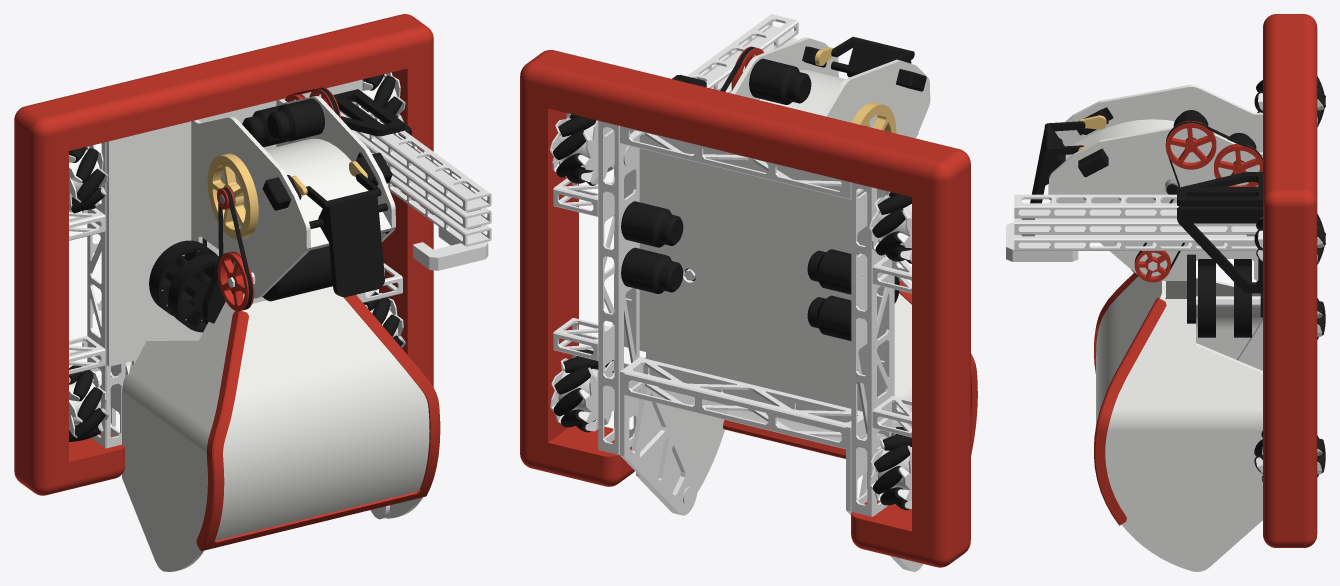
Rendered from final full robot wooo.fbx.
The picture shows the model from 3 angles, left to right: view 1: azimuth 30°, elevation 25°; view 2: azimuth 150°, elevation 25°; view 3: azimuth 270°, elevation 25°; orthographic projection. The views are drawn at different scales.
Visible parts, largest first — view 1: Body20, Body19, Body5 (×2), Body24, Body23, Body1 (×6), Body25, Body6 (×2), Body34, Body11, Body10, Body16 (+9 smaller); view 2: Body20, Body5, Body1 (×8), Body11, Body14, Body4, Body23, Body18, Body15, Body10, Body24, Body25 (+10 smaller); view 3: Body18, Body20, Body22, Body1 (×8), Body23, Body19, Body10, Body8, Body6 (×2), Body25, Body9, Body7 (+4 smaller).
Part boxes in pixels (x1=…): Body20: x1=14, y1=14, x2=433, y2=495; Body19: x1=215, y1=286, x2=429, y2=540; Body5 (×2): x1=106, y1=79, x2=488, y2=366; Body24: x1=122, y1=301, x2=235, y2=571; Body23: x1=191, y1=116, x2=310, y2=298; Body1 (×6): x1=149, y1=98, x2=324, y2=332; Body25: x1=196, y1=295, x2=440, y2=550; Body6 (×2): x1=207, y1=89, x2=404, y2=250; Body34: x1=309, y1=189, x2=388, y2=297; Body11: x1=87, y1=142, x2=125, y2=448; Body10: x1=339, y1=101, x2=491, y2=212; Body16: x1=207, y1=153, x2=258, y2=239; Body20: x1=520, y1=50, x2=970, y2=567; Body5: x1=624, y1=129, x2=894, y2=422; Body1 (×8): x1=577, y1=58, x2=851, y2=454; Body11: x1=851, y1=182, x2=892, y2=516; Body14: x1=624, y1=358, x2=862, y2=449; Body4: x1=620, y1=356, x2=697, y2=515; Body23: x1=822, y1=59, x2=930, y2=138; Body18: x1=636, y1=340, x2=728, y2=513; Body15: x1=620, y1=126, x2=864, y2=199; Body10: x1=687, y1=14, x2=798, y2=90; Body24: x1=847, y1=293, x2=923, y2=571; Body25: x1=723, y1=280, x2=977, y2=458; Body18: x1=1105, y1=299, x2=1262, y2=571; Body20: x1=1263, y1=14, x2=1317, y2=547; Body22: x1=1048, y1=127, x2=1262, y2=280; Body1 (×8): x1=1078, y1=121, x2=1262, y2=337; Body23: x1=1055, y1=85, x2=1262, y2=152; Body19: x1=1096, y1=276, x2=1165, y2=425; Body10: x1=1014, y1=194, x2=1178, y2=218; Body8: x1=1014, y1=218, x2=1257, y2=234; Body6 (×2): x1=1048, y1=119, x2=1262, y2=206; Body25: x1=1094, y1=273, x2=1166, y2=525; Body9: x1=1014, y1=234, x2=1258, y2=250; Body7: x1=1177, y1=206, x2=1262, y2=293.
Bounding box in the file's own units: 24.3 × 25.66 × 17.68.
